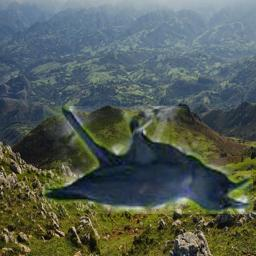Crow: (43, 106, 253, 214)
